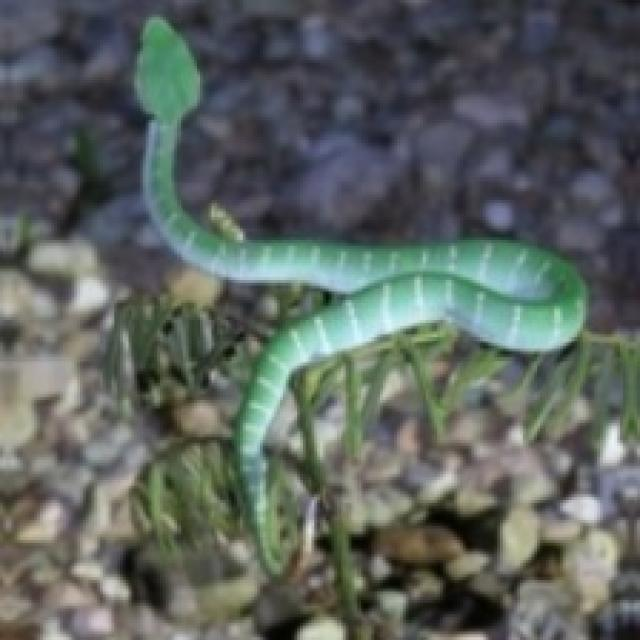north ph temple pitviper: (137, 17, 586, 551)
